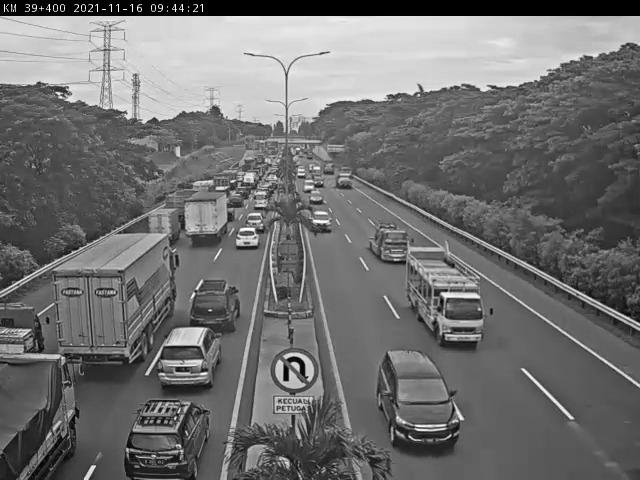car: (381, 352, 461, 446), (129, 391, 201, 473), (157, 326, 221, 391), (191, 276, 236, 333), (232, 227, 265, 252), (238, 215, 266, 229), (313, 211, 332, 229), (251, 195, 268, 211), (227, 193, 241, 211), (308, 190, 323, 202), (303, 178, 315, 191), (313, 173, 323, 187), (297, 165, 305, 176), (310, 164, 317, 169)
small truck: (405, 242, 492, 345), (373, 222, 409, 262), (141, 210, 177, 244), (321, 161, 334, 174)
truck-l-: (50, 232, 180, 364), (334, 167, 353, 191)
truck-m-: (0, 354, 77, 480), (183, 189, 230, 244)
